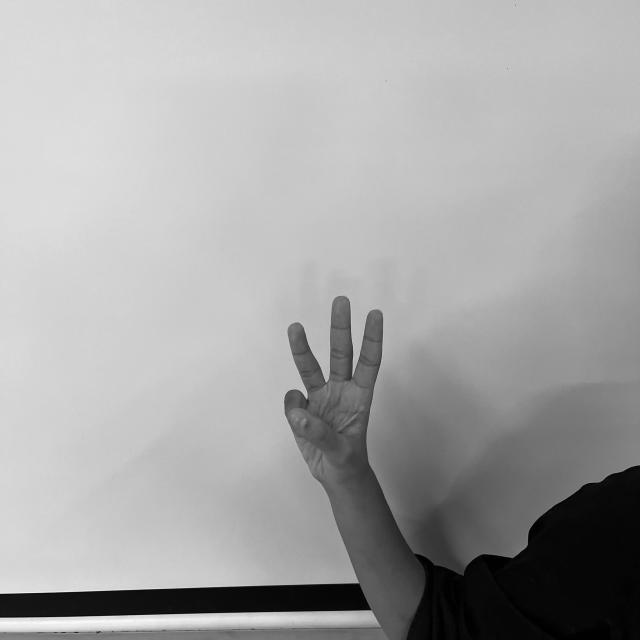Letra W: (276, 290, 392, 484)
